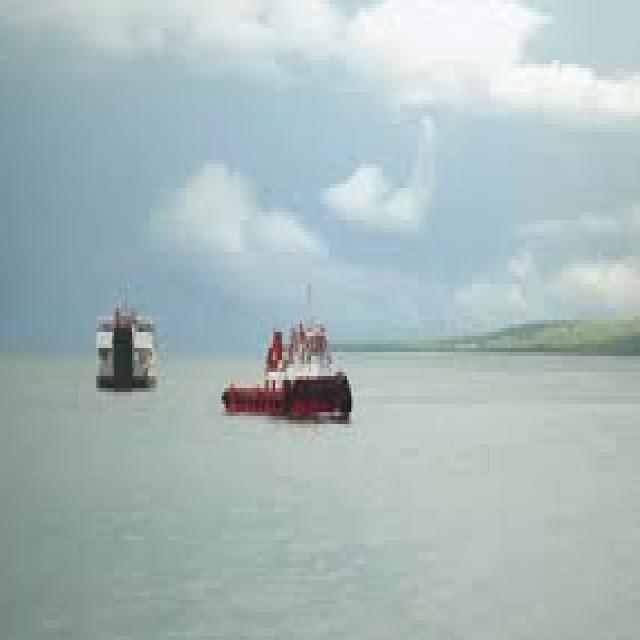cargoship: (212, 292, 356, 446), (78, 291, 168, 396)
